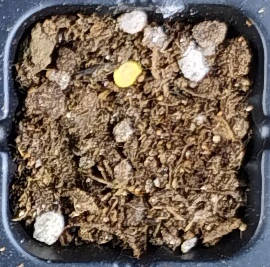chilli seed: (113, 59, 142, 89)
